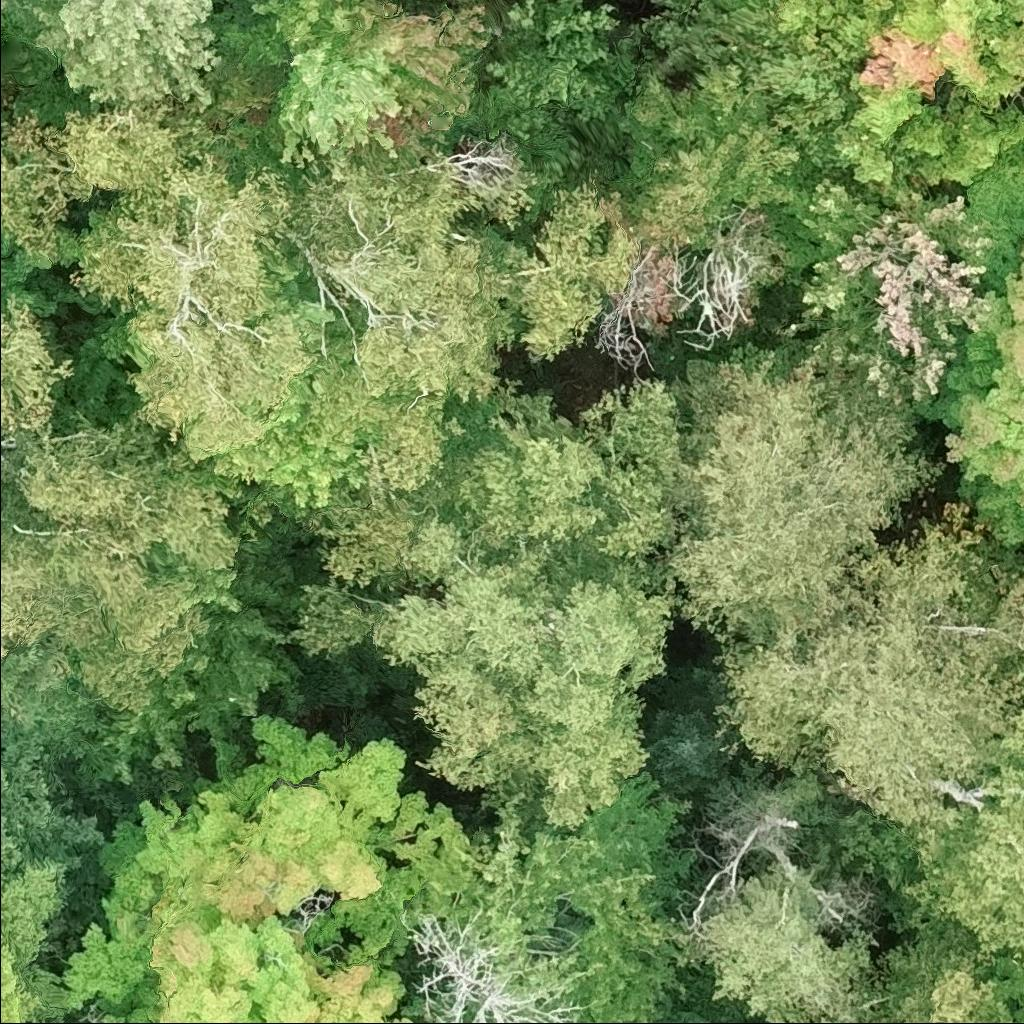crown: (368, 377, 688, 830), (60, 713, 479, 1023), (715, 502, 1023, 837), (0, 283, 239, 708), (655, 339, 947, 653), (288, 137, 531, 507), (68, 146, 323, 472), (774, 173, 995, 416), (213, 0, 493, 178), (772, 0, 1023, 194), (605, 61, 812, 251), (643, 0, 858, 180), (0, 100, 218, 257), (899, 702, 1023, 971), (918, 244, 1023, 554), (696, 863, 883, 1023), (0, 0, 250, 114), (505, 168, 640, 362), (408, 898, 601, 1023), (853, 918, 1023, 1023), (0, 732, 105, 878), (0, 850, 73, 1023), (642, 695, 729, 794), (986, 17, 1023, 81), (467, 0, 479, 1), (1022, 110, 1023, 116)
